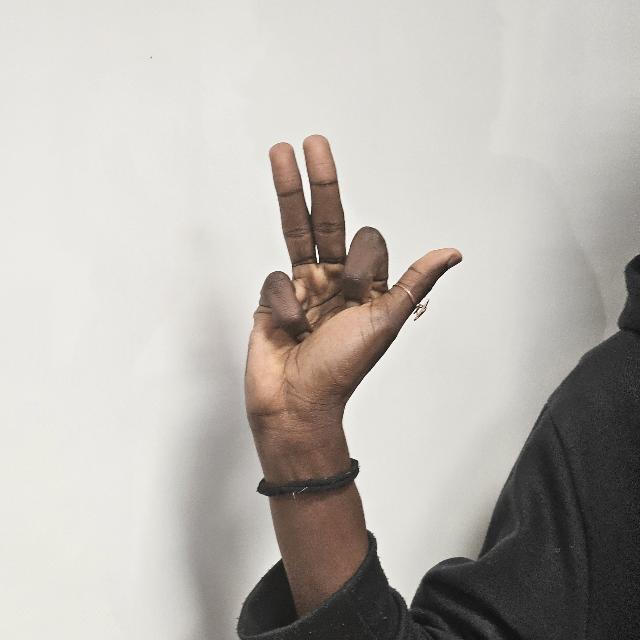R: (244, 121, 462, 491)
